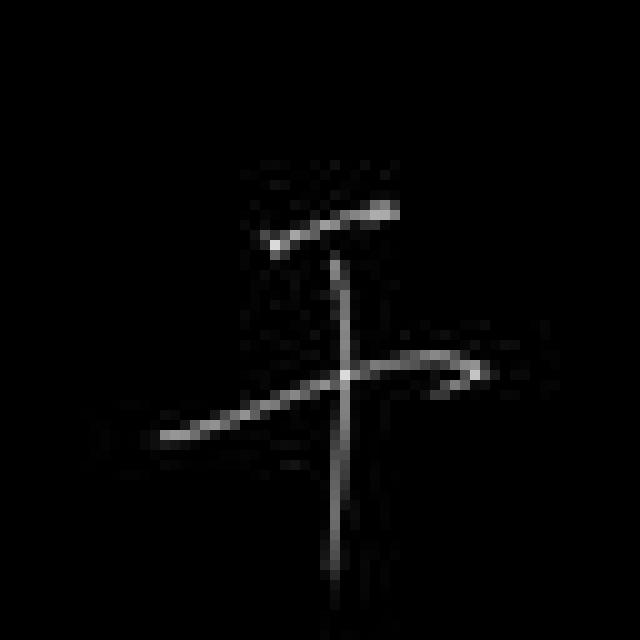1000 -a thousand-: (149, 190, 493, 569)
